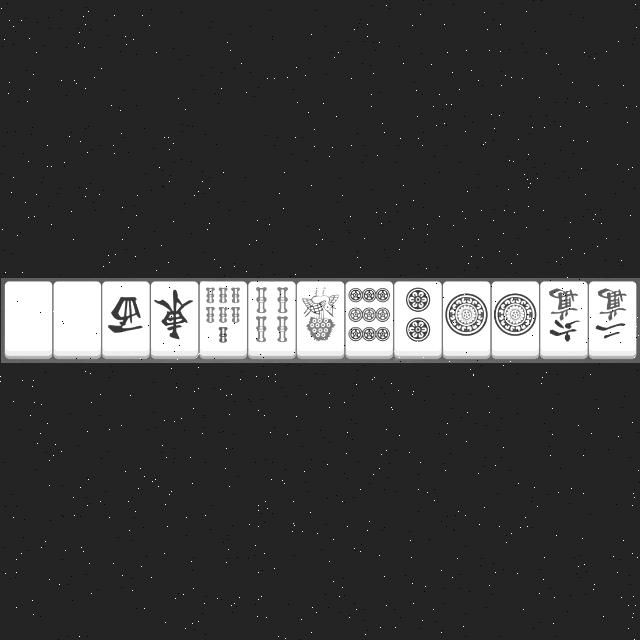1p: (491, 284, 535, 350), (444, 284, 486, 350)
1s: (296, 284, 342, 352)
2m: (590, 285, 634, 351)
2p: (395, 283, 439, 349)
4s: (248, 282, 292, 350)
6m: (540, 284, 588, 350)
7s: (200, 284, 243, 350)
9p: (346, 284, 390, 348)
haku: (5, 283, 51, 351), (56, 284, 98, 352)
sha: (104, 282, 146, 351)
tou: (149, 283, 195, 351)
